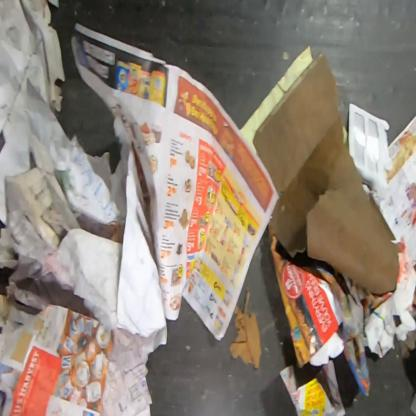cardboard: (270, 236, 346, 368)
